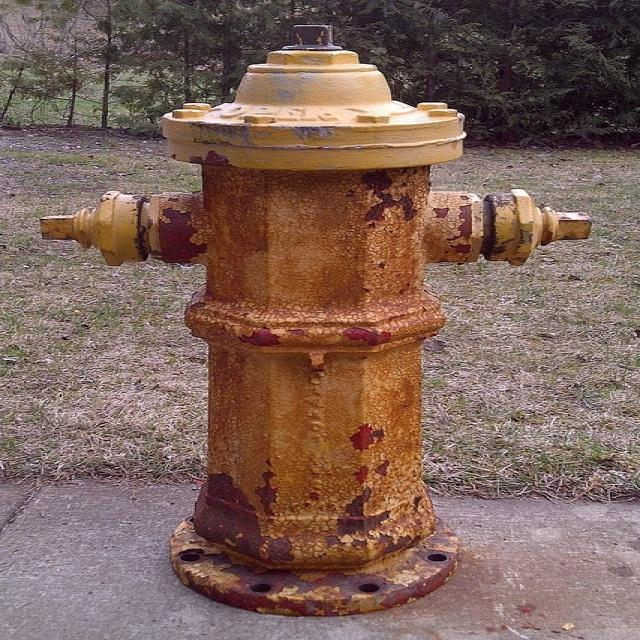fire_hydrant: (118, 47, 542, 629)
